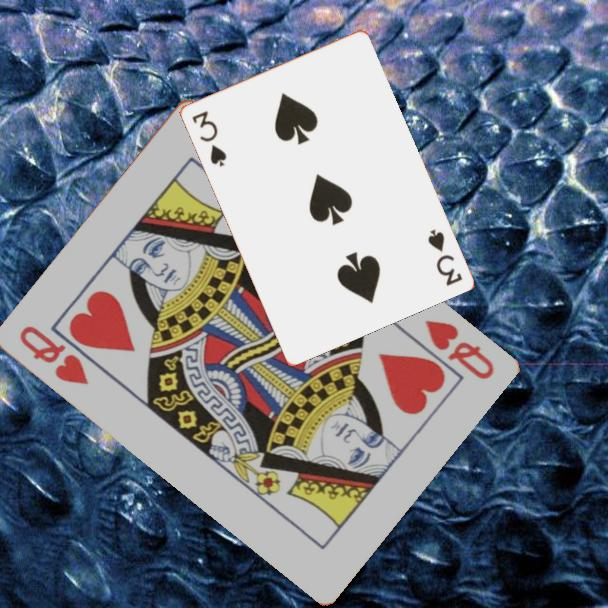h12: (420, 316, 497, 383), (15, 322, 91, 388)
s03: (188, 107, 229, 170), (424, 226, 465, 289)
